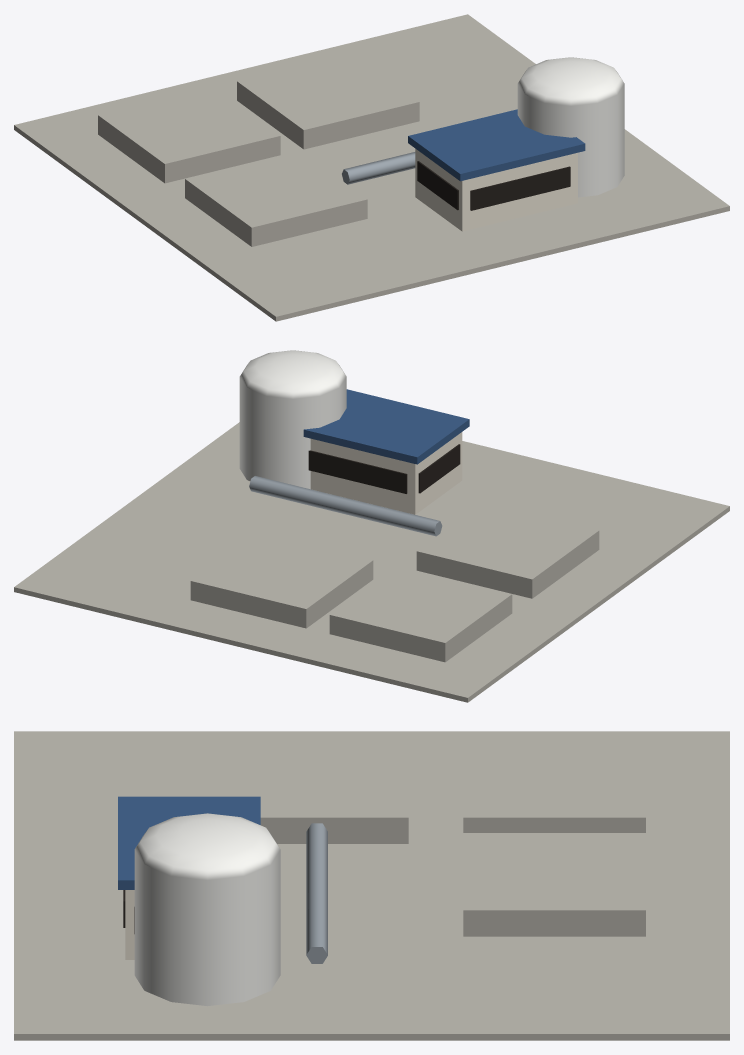
Rendered from building_loji_air.glb.
The picture shows the model from 3 angles, top to bottom: view 1: azimuth 30°, elevation 25°; view 2: azimuth 150°, elevation 25°; view 3: azimuth 270°, elevation 25°; orthographic projection. The views are drawn at different scales.
Parts seen in each view (by area): view 1: building_loji_air; view 2: building_loji_air; view 3: building_loji_air.
Part boxes in pixels (x1,y1,x2,y2): building_loji_air: (14, 14, 729, 321); building_loji_air: (14, 350, 729, 702); building_loji_air: (14, 731, 729, 1040).
Size of the model in its own units: 1.96 by 0.46 by 1.96.
